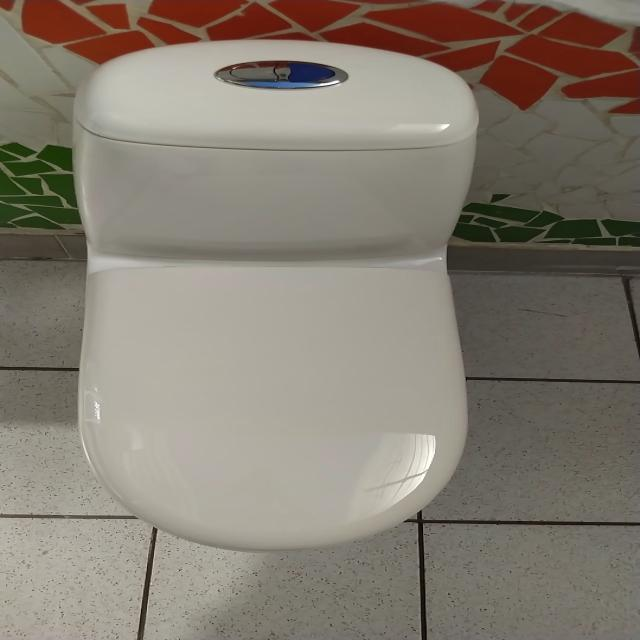toilet: (68, 35, 492, 558)
